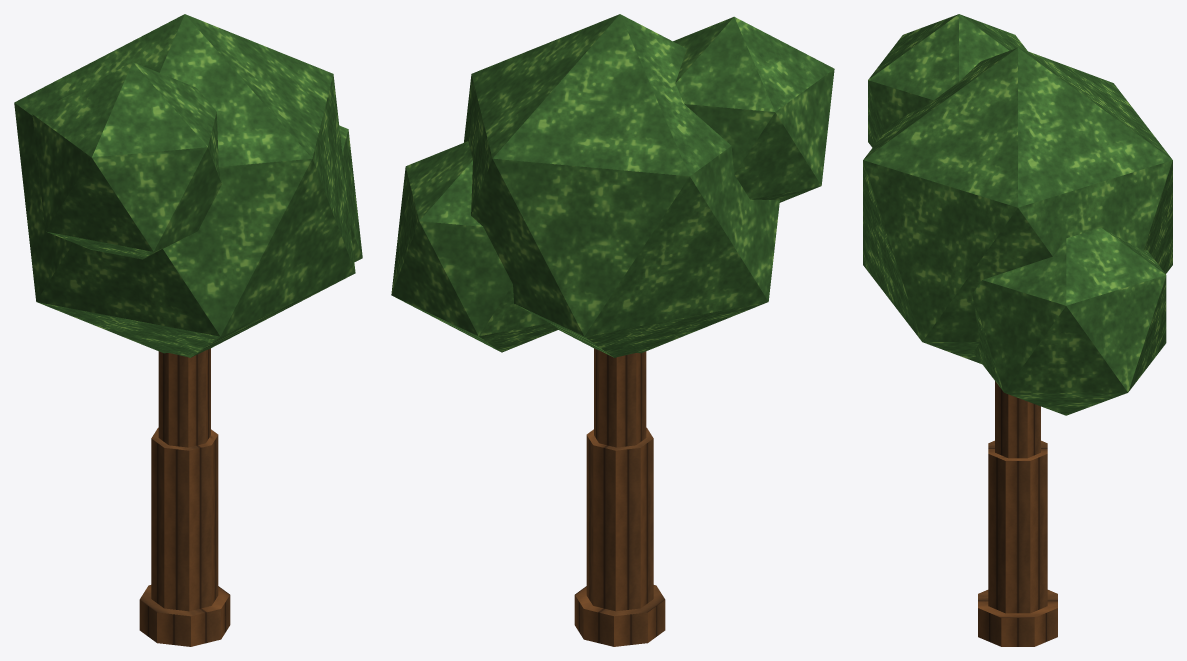
The model's file is tree_round.glb.
The picture shows the model from 3 angles, left to right: view 1: azimuth 30°, elevation 25°; view 2: azimuth 150°, elevation 25°; view 3: azimuth 270°, elevation 25°; orthographic projection. The views are drawn at different scales.
Visible parts, largest first — view 1: tree_round; view 2: tree_round; view 3: tree_round.
Boxes of the visible parts, x1,y1,x2,y2 form: tree_round: [14, 14, 362, 646]; tree_round: [391, 14, 834, 646]; tree_round: [863, 14, 1172, 646].
Size of the model in its own units: 3.68 by 6 by 2.89.
2 materials, 2 textured.
